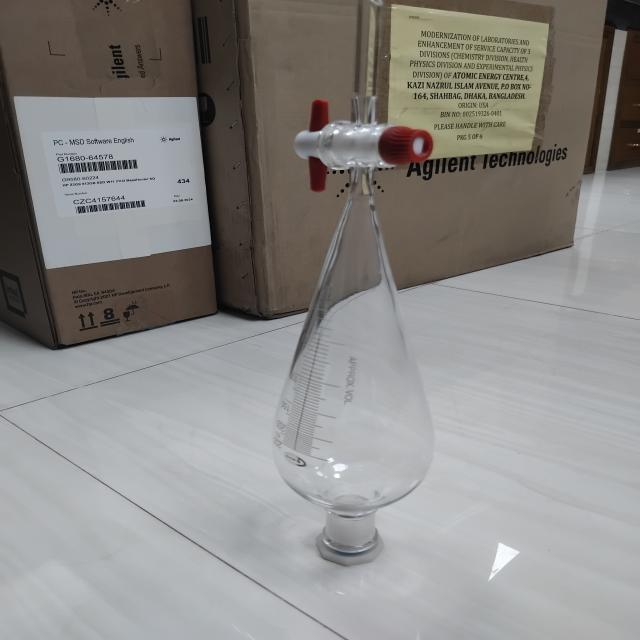Separating_Funnel: (279, 0, 462, 584)
